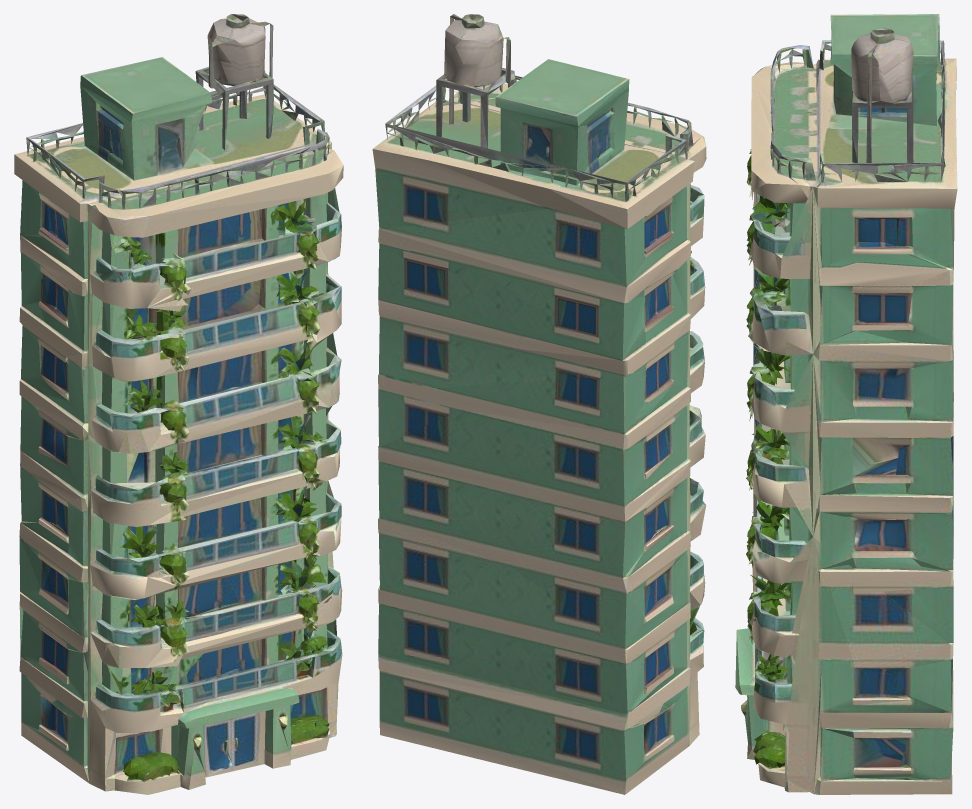
Rendered from b_tower.glb.
3 renders of one model, left to right at view 1: azimuth 30°, elevation 25°; view 2: azimuth 150°, elevation 25°; view 3: azimuth 270°, elevation 25°, orthographic. The views are drawn at different scales.
Bounding box in the file's own units: 0.7178 × 1.9 × 0.5226.
Materials: 1 (1 with a texture image).
